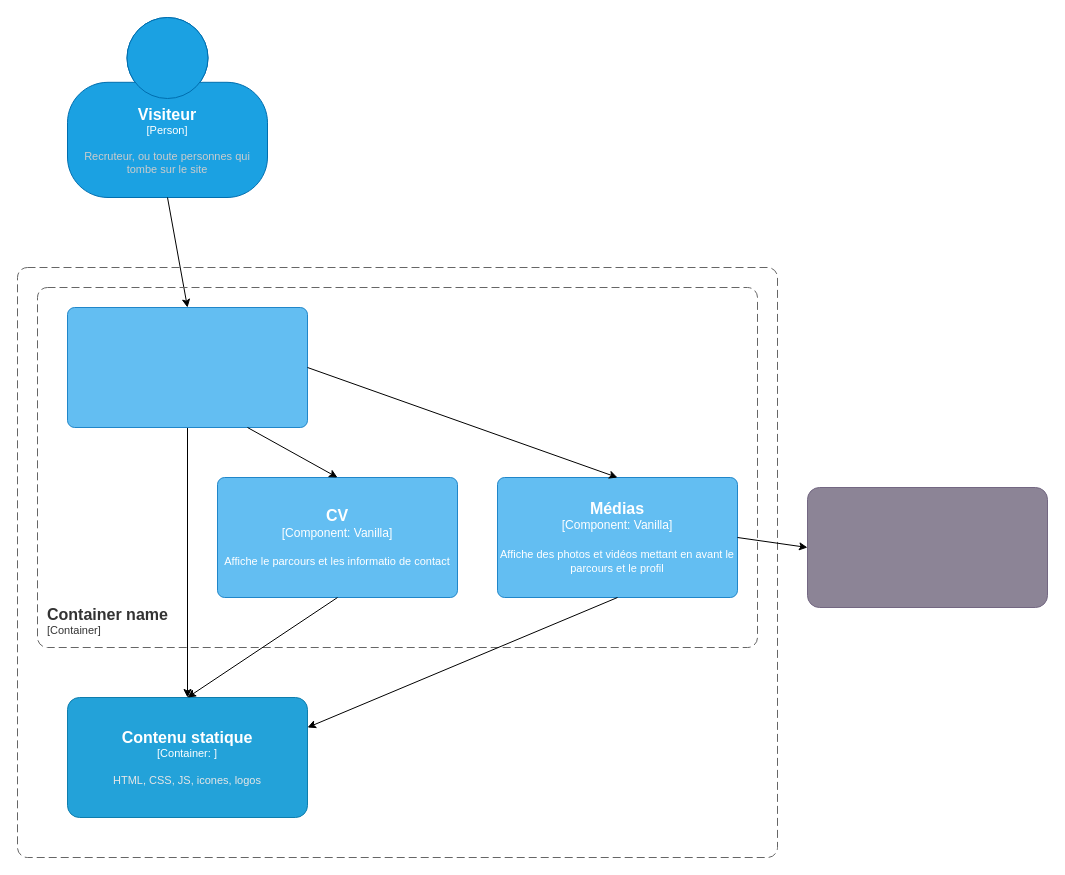
Some shapes in this 1065 by 875 pixel diagram are drawn without their labels. The shapes that lost their labels are listed below. From the top down, each one's box as (x1, y1, x2, y2) in pixels, then its label:
(66, 306, 308, 428): Page d'accueil [Component: Vanilla]
(16, 266, 778, 858): Portfolio [Software System]
(806, 486, 1048, 608): Instagram [Software System] Fournisseur de médias
